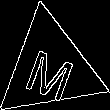M_N: (21, 35, 79, 99)
